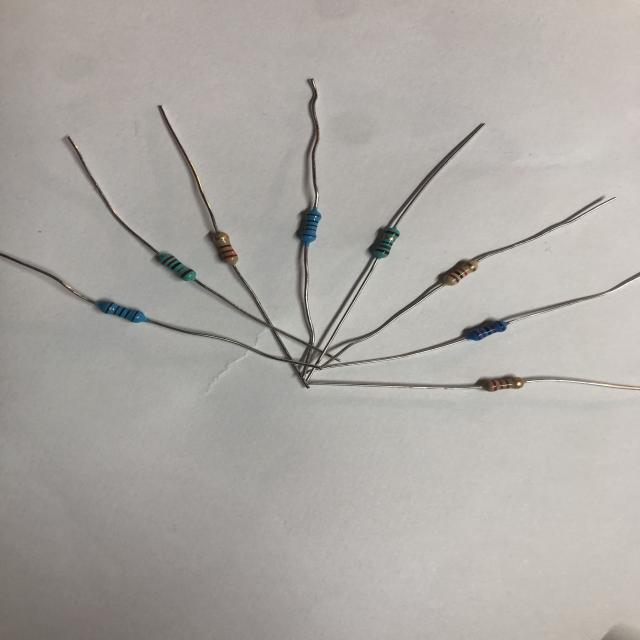Capacitor Electrolitico: (95, 297, 151, 324), (154, 252, 199, 282), (368, 224, 403, 260), (440, 258, 480, 288), (210, 230, 241, 266), (296, 205, 324, 244), (462, 320, 510, 342), (478, 374, 526, 393)
